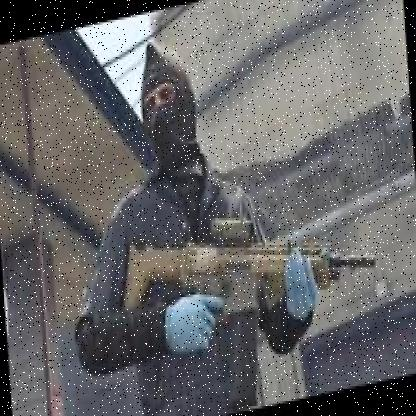rifle: (119, 180, 384, 354)
